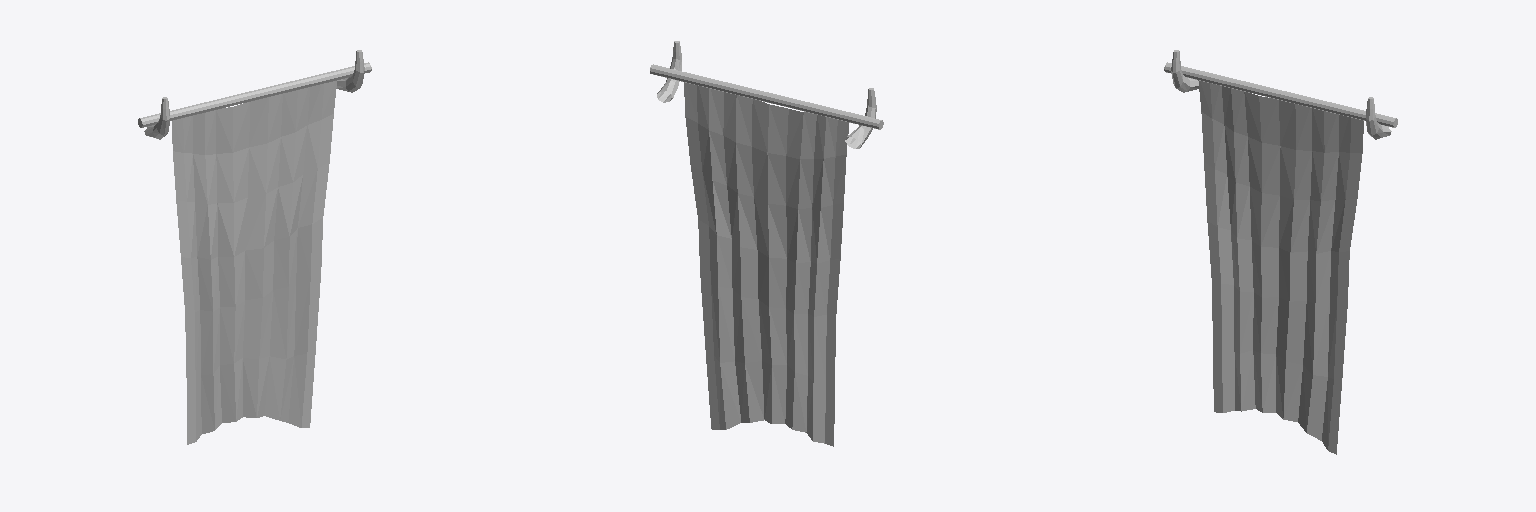
The model's file is Flag_Banquet_geo.obj.
3 renders of one model, left to right at view 1: azimuth 30°, elevation 25°; view 2: azimuth 150°, elevation 25°; view 3: azimuth 330°, elevation 25°, orthographic.
Visible parts, largest first — view 1: Flag; view 2: Flag; view 3: Flag.
Boxes of the visible parts, box(x1,y1,x2,y2) form: Flag: box(138, 50, 371, 444); Flag: box(650, 41, 883, 446); Flag: box(1164, 50, 1397, 454).
Bounding box in the file's own units: 196 × 305 × 27.14.